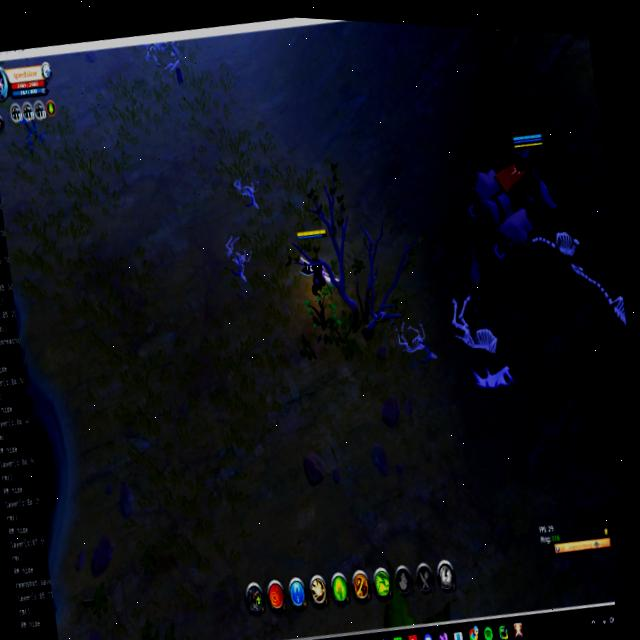red: (483, 126, 561, 224), (292, 223, 340, 304)
